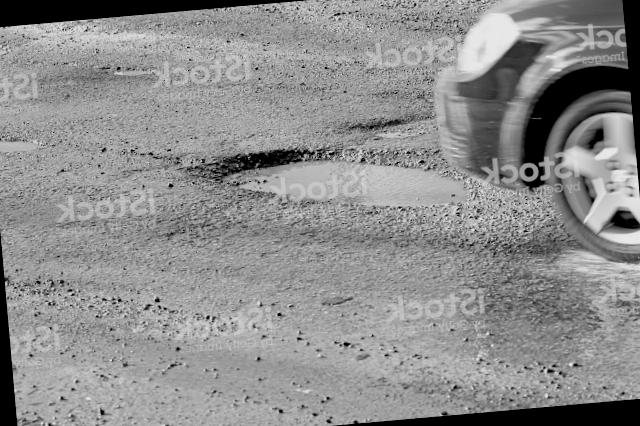Pothole: (180, 138, 502, 230), (88, 53, 164, 96), (0, 122, 47, 161), (0, 30, 30, 74)
